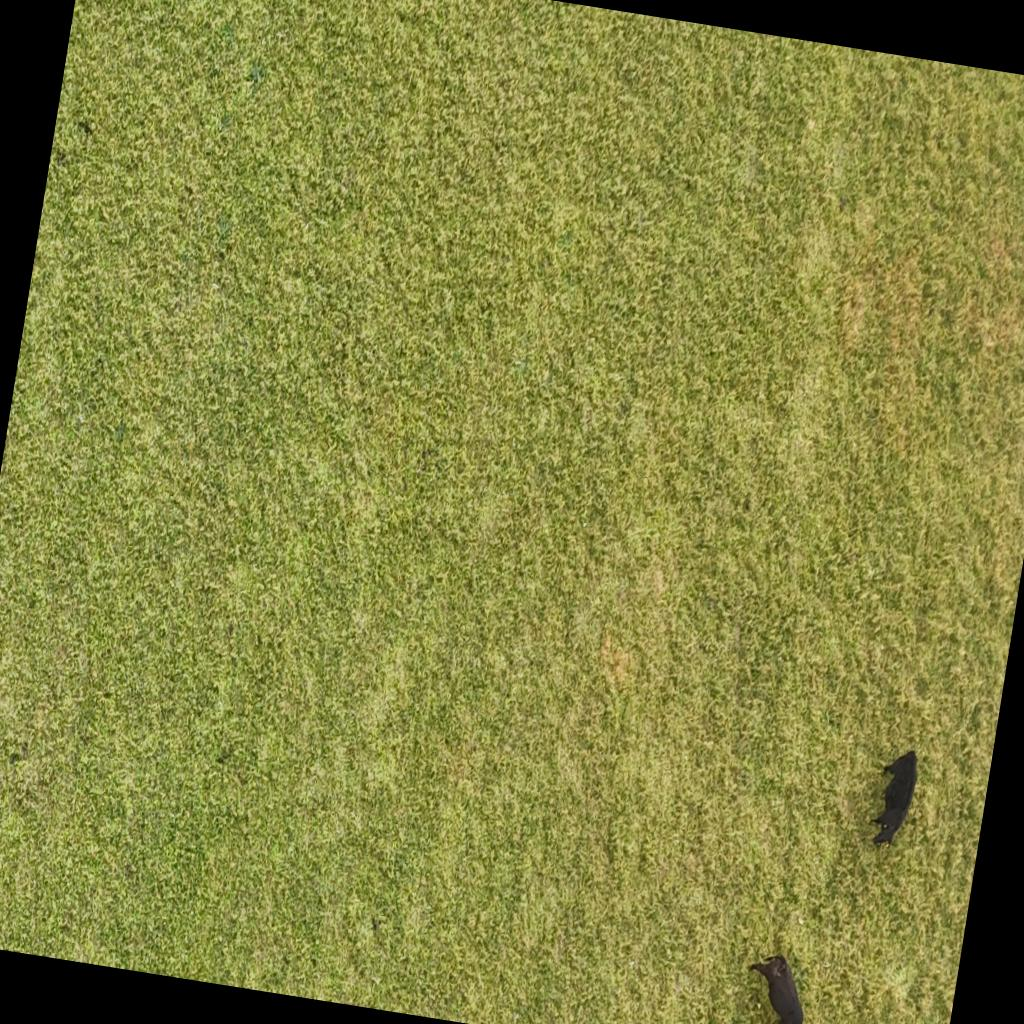cow: (729, 945, 817, 1024), (863, 744, 922, 856)
